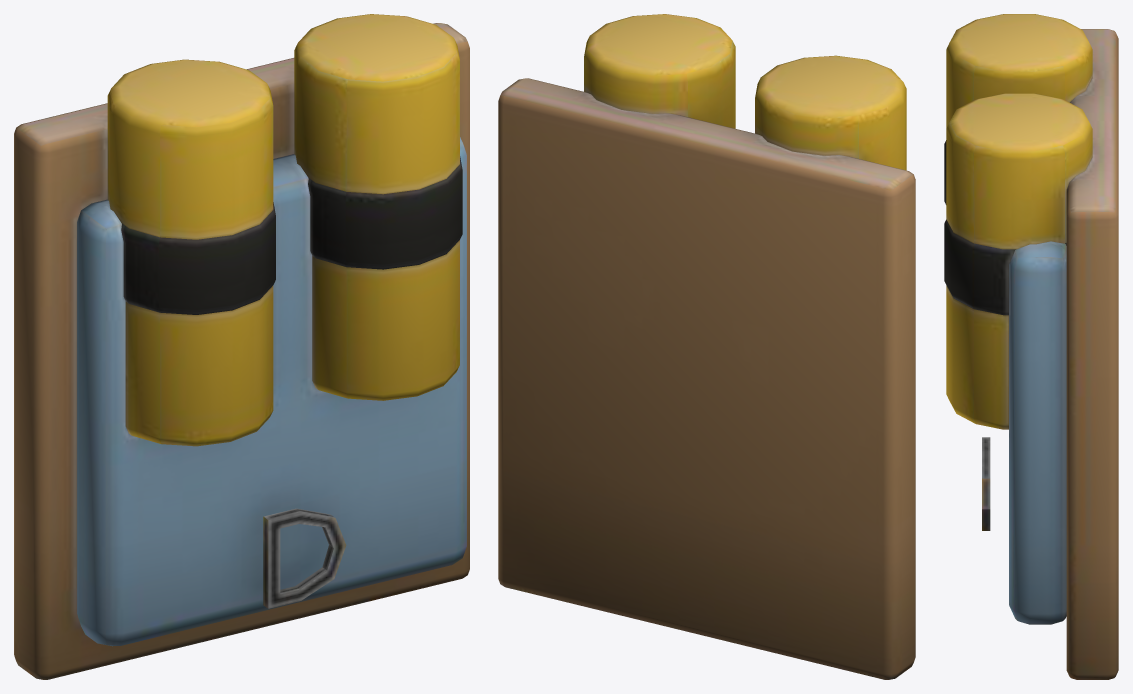
The model's file is item_battery.glb.
The picture shows the model from 3 angles, left to right: view 1: azimuth 30°, elevation 25°; view 2: azimuth 150°, elevation 25°; view 3: azimuth 270°, elevation 25°; orthographic projection. The views are drawn at different scales.
Visible parts, largest first — view 1: item_battery; view 2: item_battery; view 3: item_battery.
Part boxes in pixels (left/top/right/bottom): item_battery: left=14, top=14, right=469, bottom=679; item_battery: left=498, top=14, right=915, bottom=679; item_battery: left=944, top=14, right=1118, bottom=679.
Bounding box in the file's own units: 0.42 × 0.54 × 0.167.
Materials: 1 (1 with a texture image).
